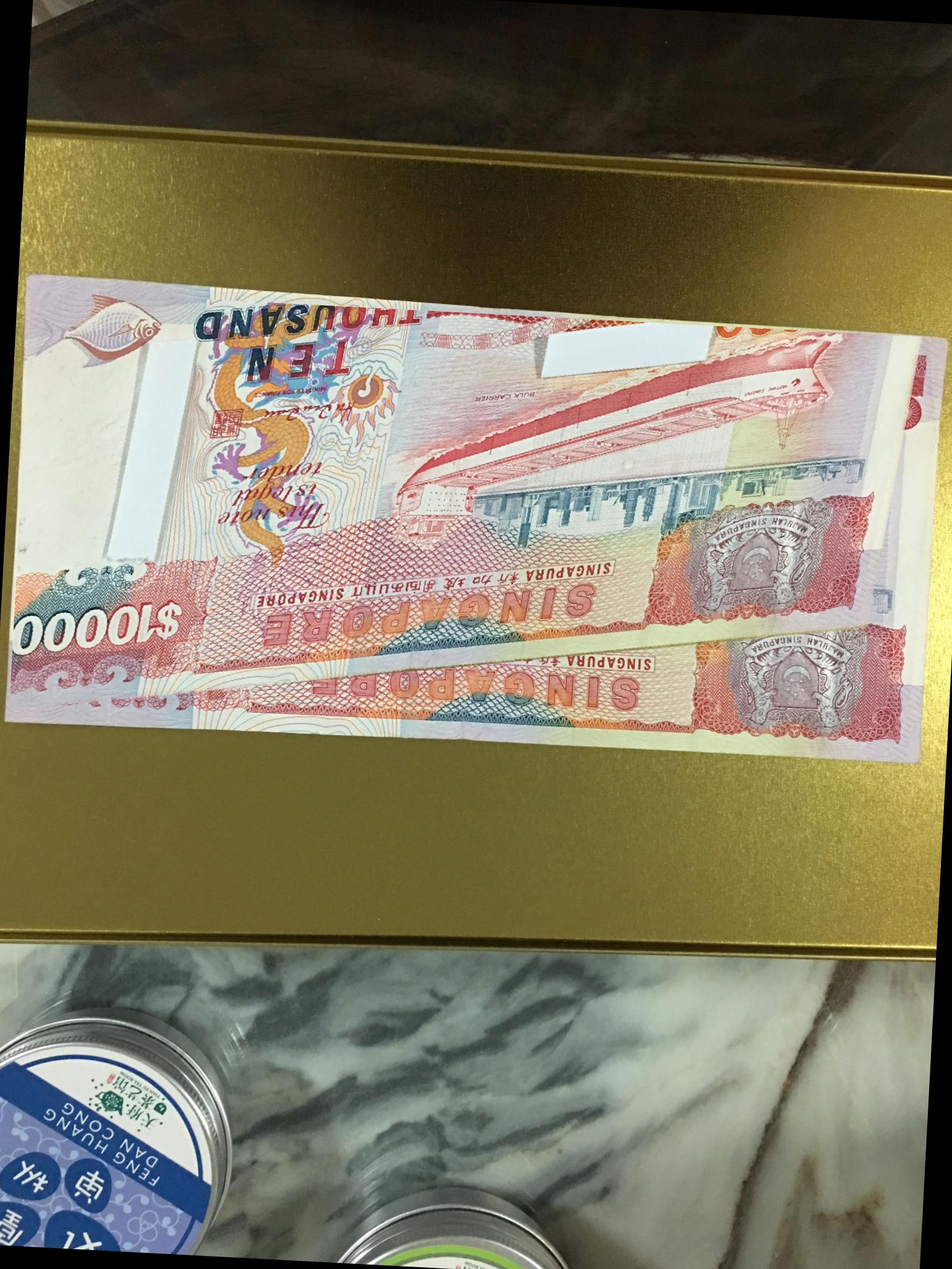10000SingaporeDollar: (9, 290, 940, 766)
